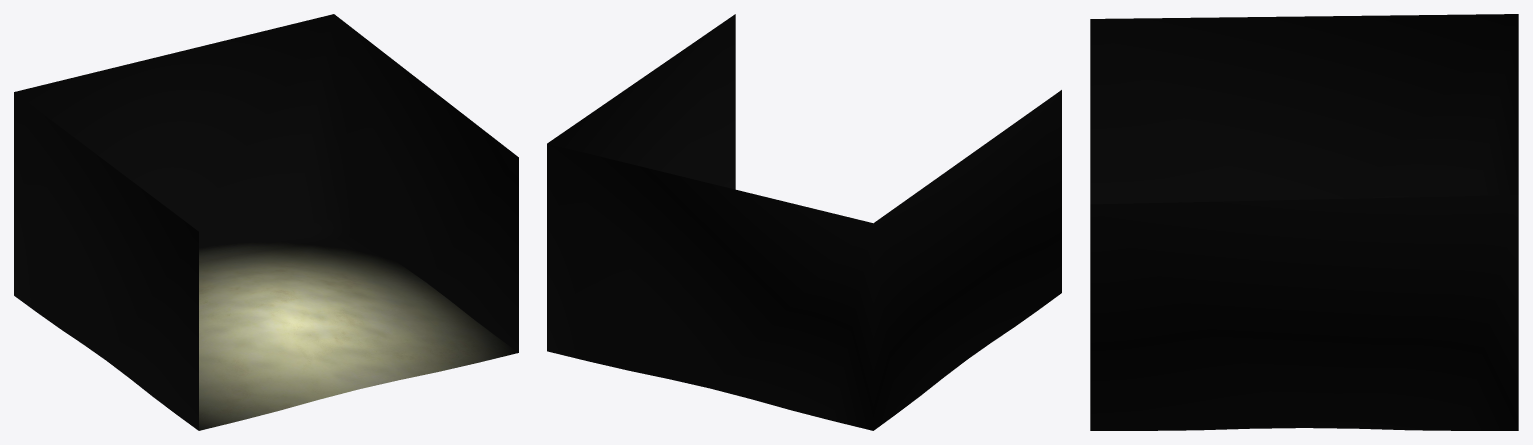
The model's file is MainMenu.fbx.
3 renders of one model, left to right at view 1: azimuth 30°, elevation 25°; view 2: azimuth 150°, elevation 25°; view 3: azimuth 270°, elevation 25°, orthographic. The views are drawn at different scales.
Parts seen in each view (by area): view 1: Plane; view 2: Plane; view 3: Plane.
Part boxes in pixels (bbox=[...]): Plane: bbox=[14, 14, 518, 430]; Plane: bbox=[547, 14, 1061, 430]; Plane: bbox=[1090, 14, 1518, 430].
Bounding box in the file's own units: 8.33 × 5.07 × 8.33.
1 material, 1 textured.
